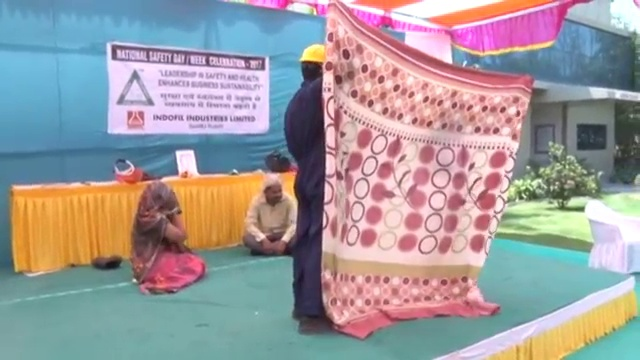helmet: (299, 41, 326, 65)
helmet_off: (143, 182, 175, 210), (264, 174, 285, 206)
helmet_on: (296, 41, 326, 82)
person: (279, 39, 335, 337), (131, 176, 201, 300), (242, 171, 300, 258)
